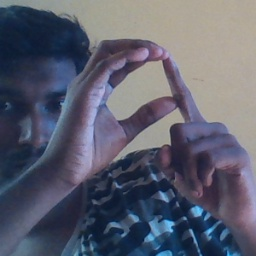P: (75, 30, 235, 207)
